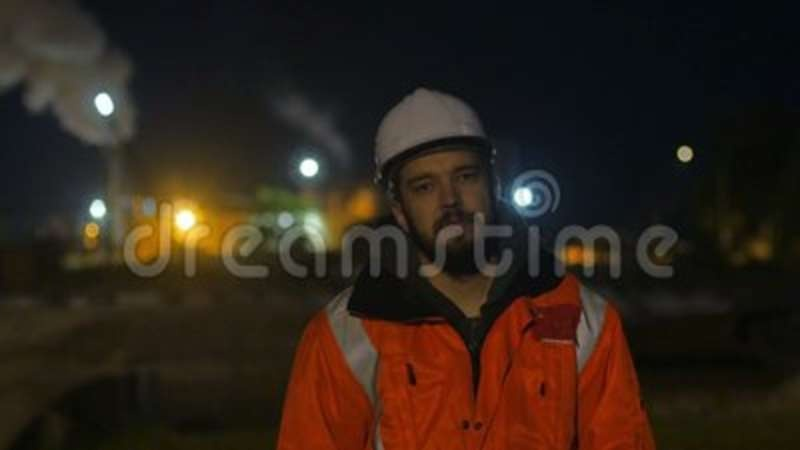white: (371, 90, 508, 266)
